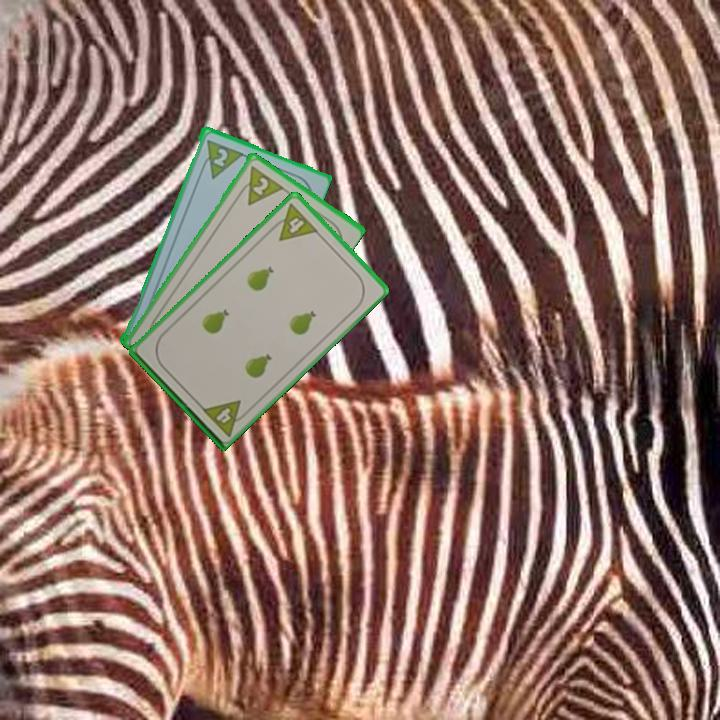2p: (233, 162, 285, 208), (196, 135, 244, 181)
4p: (266, 200, 321, 244), (198, 396, 252, 439)
